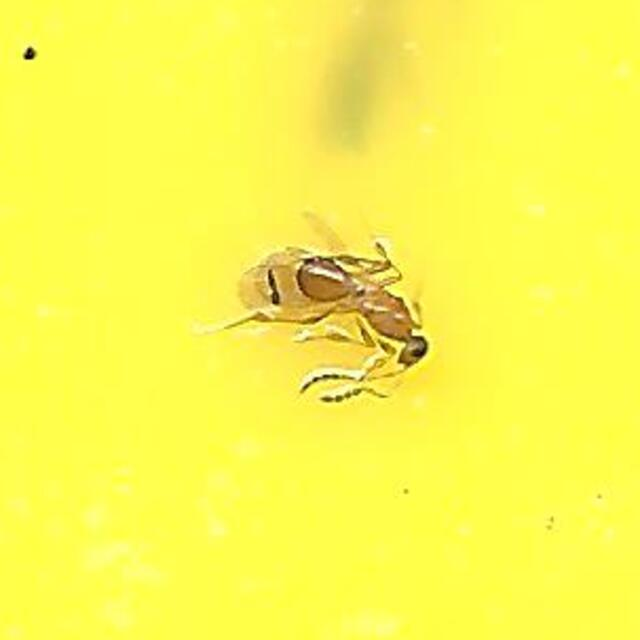Hymenoptera: (211, 229, 429, 411)
